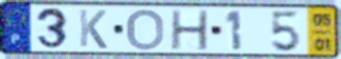1: (224, 9, 244, 52)
3: (34, 6, 71, 52)
5: (269, 9, 302, 53)
H: (169, 9, 211, 52)
K: (77, 8, 109, 50)
O: (124, 8, 165, 52)
